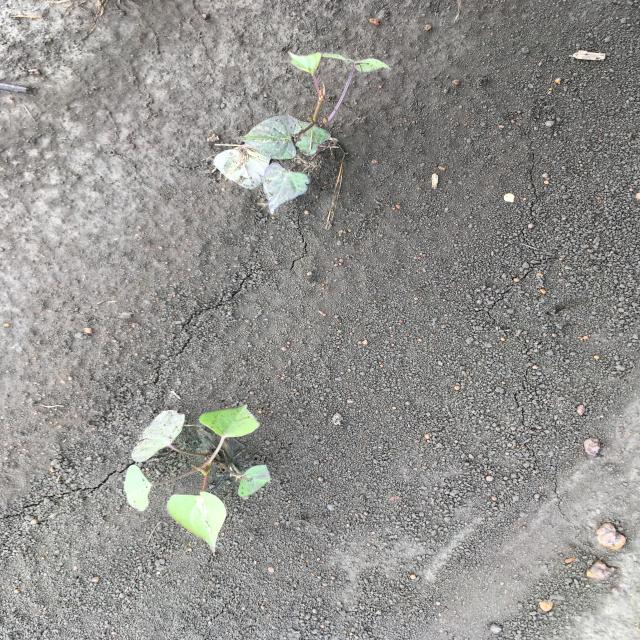MorningGlory: (210, 49, 394, 215), (122, 403, 276, 557)
